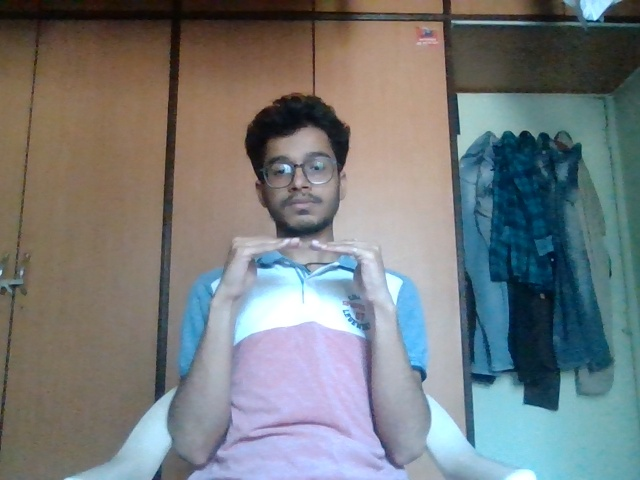afternoon: (213, 223, 405, 333)
